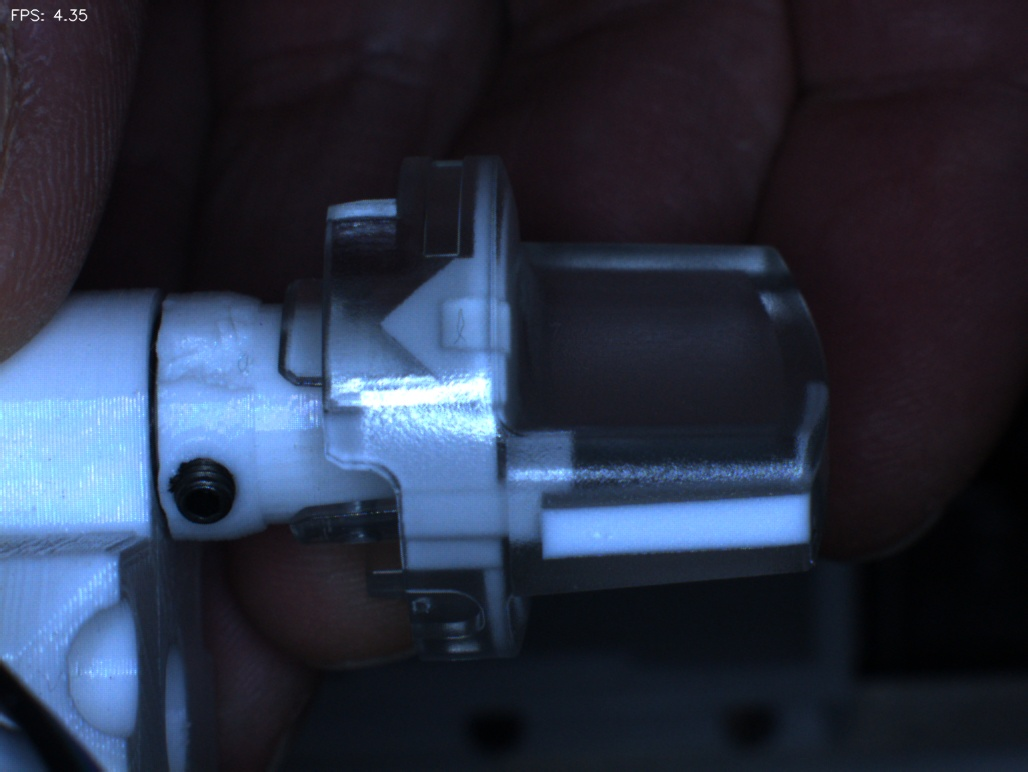DentOk: (355, 275, 428, 377)
